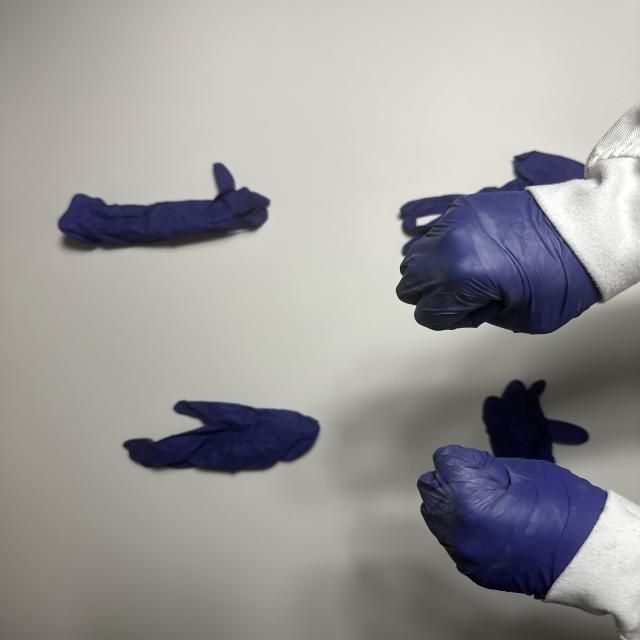gloves_contaminated: (396, 192, 600, 334), (418, 446, 604, 596)
